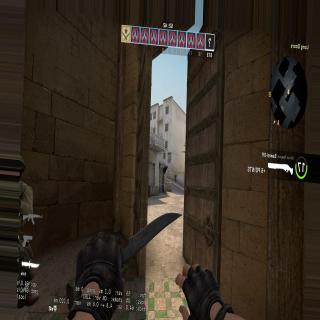CT-Body: (6, 150, 40, 308), (174, 174, 177, 182)
CT-Head: (9, 156, 27, 182), (175, 174, 177, 176)
